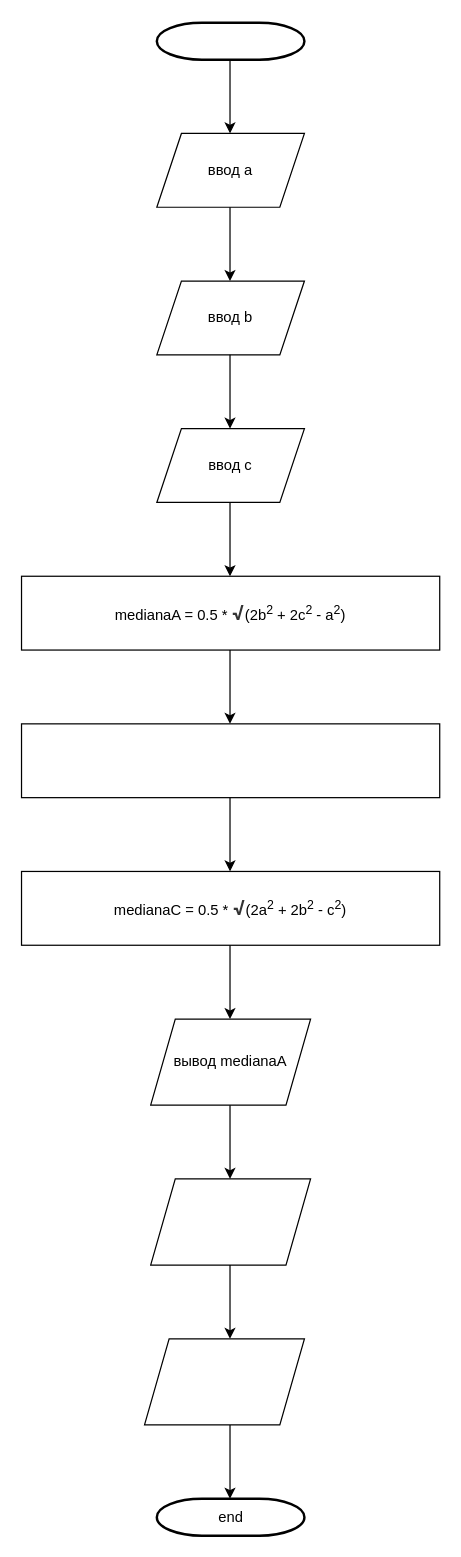
Image size: 461x1557. Some labels were removed from this diagram. Each missing label, with the box of its shape:
medianaB = 0.5 * √ (2a 2 + 2c 2 - b 2 ): (20, 723, 440, 798)
start: (155, 21, 305, 60)
вывод medianaB: (149, 1178, 311, 1265)
вывод medianaC: (143, 1338, 304, 1425)
